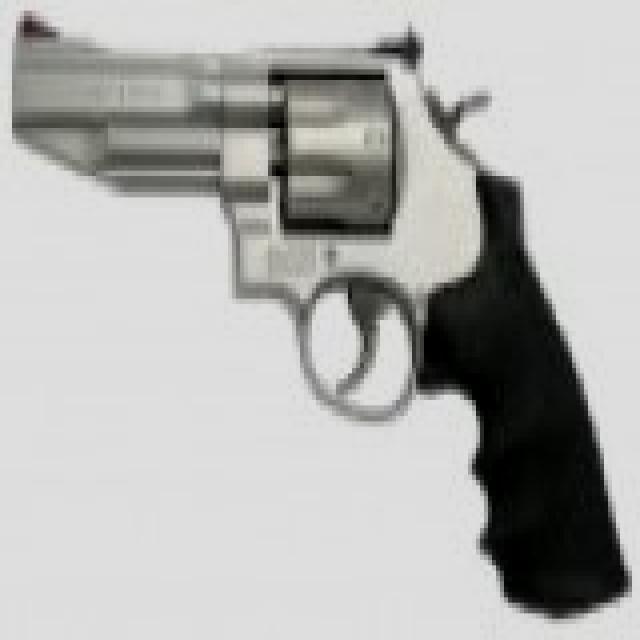pistol: (12, 0, 640, 597)
